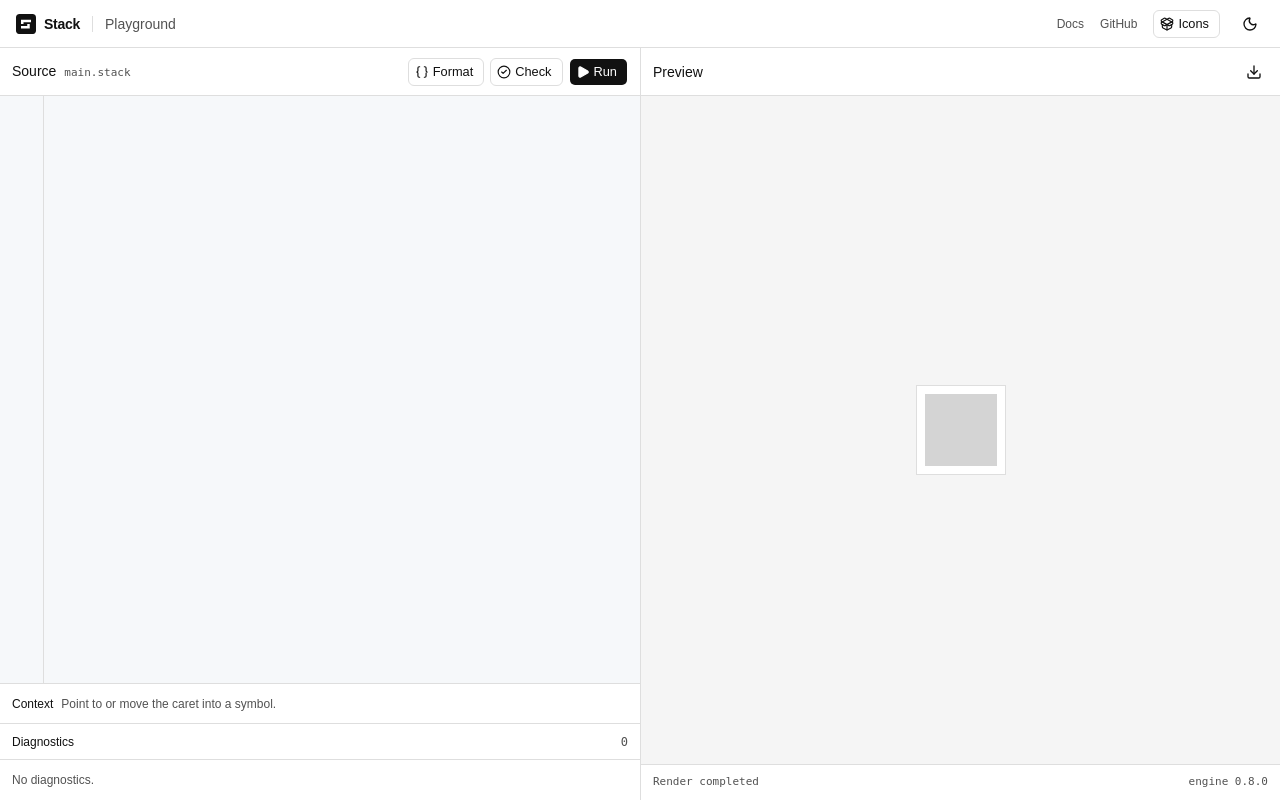
it: Stack Playground › formats the source and refreshes the preview
Click the button "Format" at (446, 72), box [408,58,484,86]
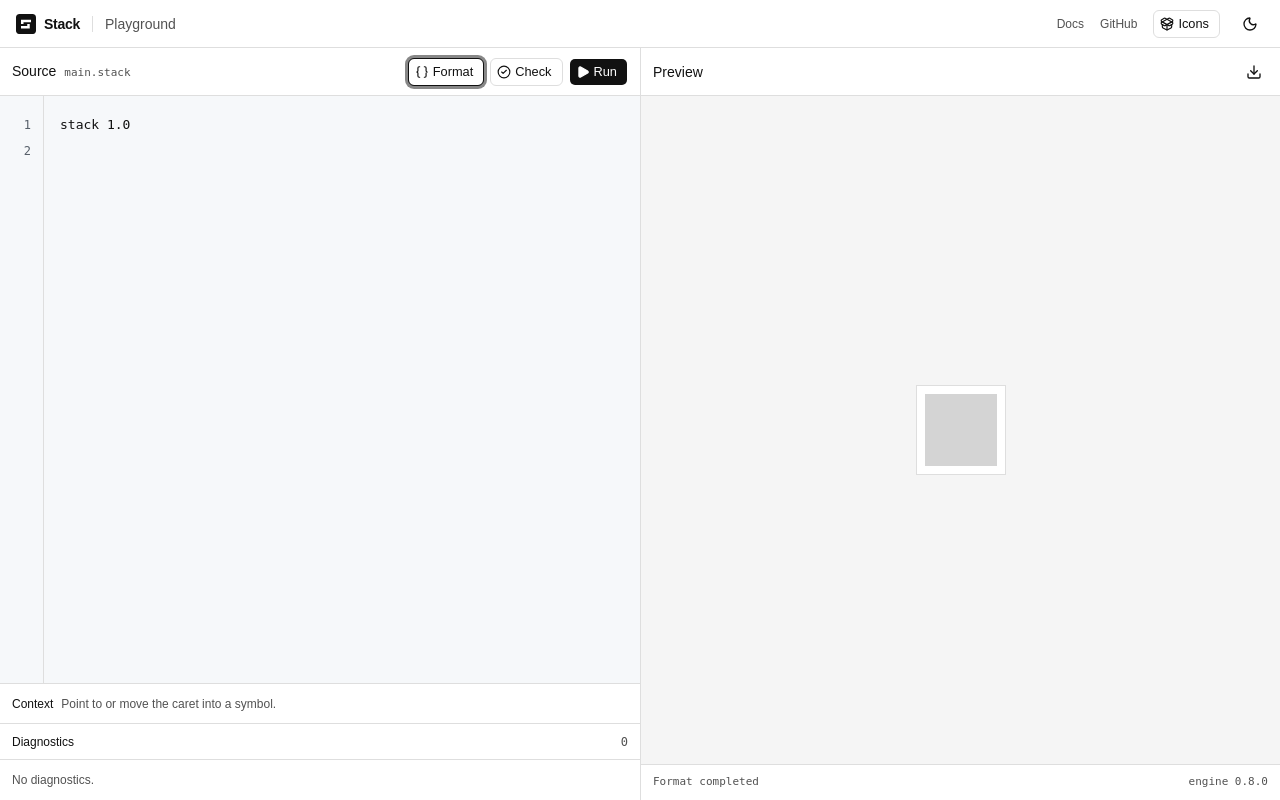
Check: the text "Format completed" is shown, box [653,774,759,791]
